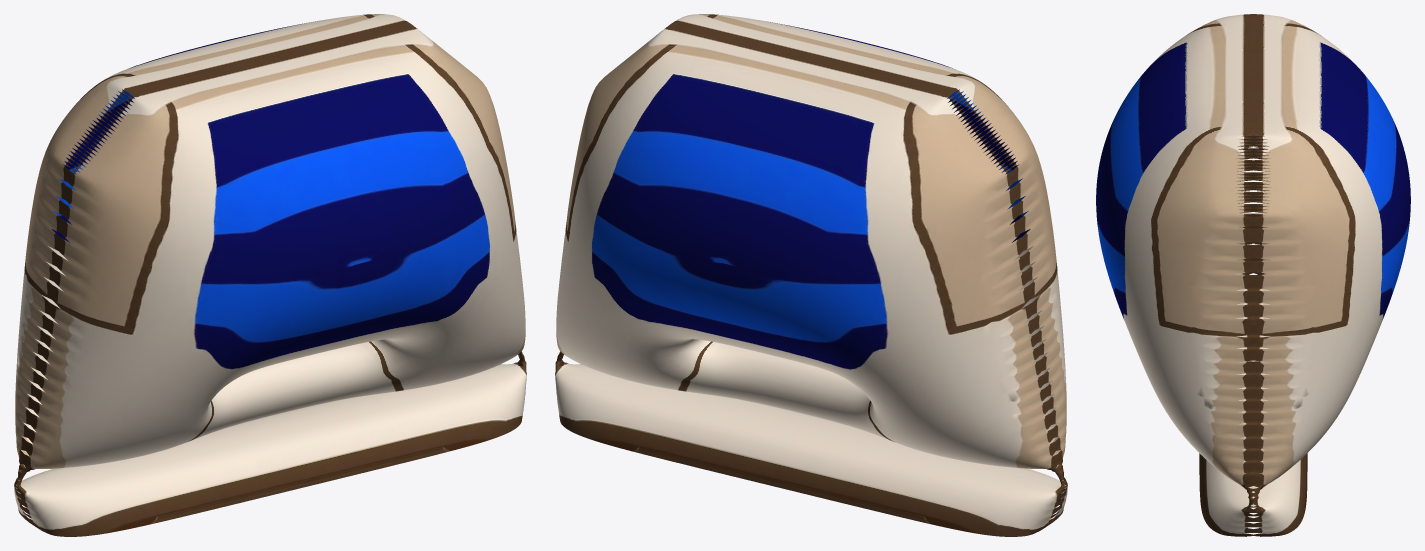
File: access_hatch.glb
3 renders of one model, left to right at view 1: azimuth 30°, elevation 25°; view 2: azimuth 150°, elevation 25°; view 3: azimuth 270°, elevation 25°, orthographic. The views are drawn at different scales.
Visible parts, largest first — view 1: access_hatch; view 2: access_hatch; view 3: access_hatch.
Boxes of the visible parts, x1,y1,x2,y2 form: access_hatch: (14,14,526,536); access_hatch: (555,14,1067,536); access_hatch: (1096,14,1410,536).
Size of the model in its own units: 0.9876 by 0.7534 by 0.5977.
1 material, 1 textured.
